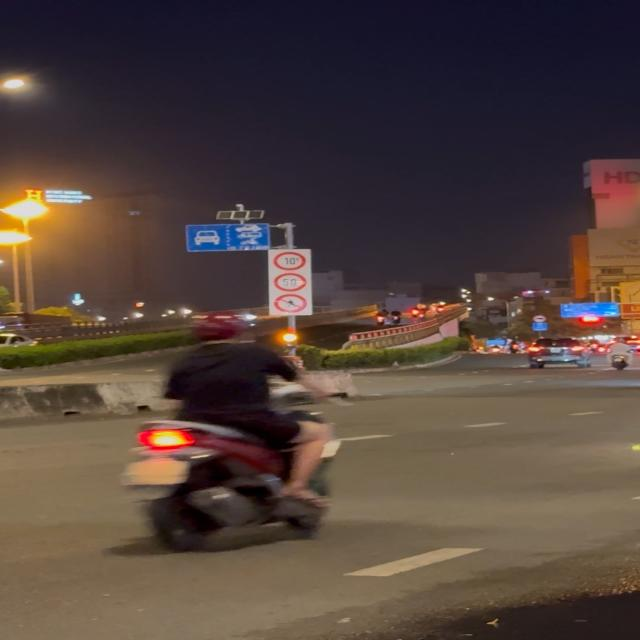Bien bao cam nguoi di bo: (272, 293, 310, 313)
Bien bao toc do toi da cho phep: (274, 272, 310, 292)
